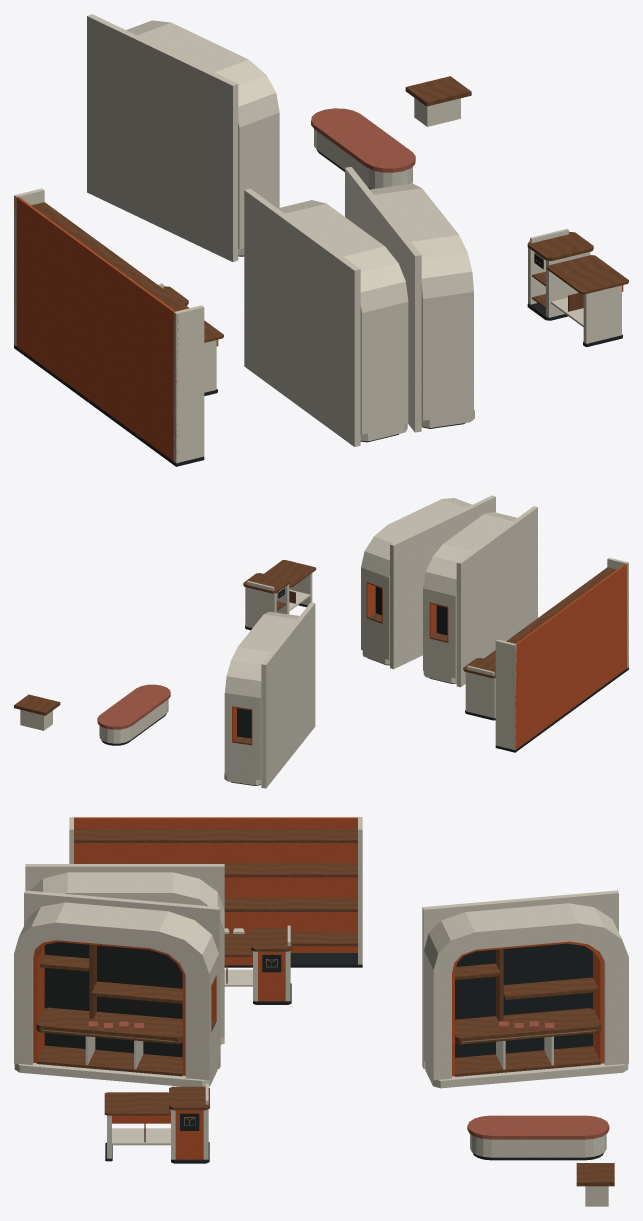
The model's file is SHOP_D09_P100_F392__fitout.glb.
The picture shows the model from 3 angles, top to bottom: view 1: azimuth 30°, elevation 25°; view 2: azimuth 150°, elevation 25°; view 3: azimuth 270°, elevation 25°; orthographic projection. The views are drawn at different scales.
Parts seen in each view (by area): view 1: SHOP_D09_P100_F392__fitout__ivory_enamel, SHOP_D09_P100_F392__fitout__retail_terracotta_enamel, SHOP_D09_P100_F392__fitout__warm_walnut, SHOP_D09_P100_F392__fitout__clay_weave, SHOP_D09_P100_F392__fitout__dark_rubber; view 2: SHOP_D09_P100_F392__fitout__ivory_enamel, SHOP_D09_P100_F392__fitout__retail_terracotta_enamel, SHOP_D09_P100_F392__fitout__warm_walnut, SHOP_D09_P100_F392__fitout__clay_weave, SHOP_D09_P100_F392__fitout__dark_rubber; view 3: SHOP_D09_P100_F392__fitout__ivory_enamel, SHOP_D09_P100_F392__fitout__warm_walnut, SHOP_D09_P100_F392__fitout__retail_terracotta_enamel, SHOP_D09_P100_F392__fitout__dark_rubber, SHOP_D09_P100_F392__fitout__clay_weave, SHOP_D09_P100_F392__fitout__champagne_metal.
Part boxes in pixels (x1=…): SHOP_D09_P100_F392__fitout__ivory_enamel: x1=14, y1=14, x2=621, y2=463; SHOP_D09_P100_F392__fitout__retail_terracotta_enamel: x1=14, y1=196, x2=623, y2=462; SHOP_D09_P100_F392__fitout__warm_walnut: x1=31, y1=76, x2=628, y2=342; SHOP_D09_P100_F392__fitout__clay_weave: x1=311, y1=108, x2=415, y2=172; SHOP_D09_P100_F392__fitout__dark_rubber: x1=14, y1=150, x2=622, y2=466; SHOP_D09_P100_F392__fitout__ivory_enamel: x1=20, y1=495, x2=628, y2=788; SHOP_D09_P100_F392__fitout__retail_terracotta_enamel: x1=232, y1=562, x2=627, y2=749; SHOP_D09_P100_F392__fitout__warm_walnut: x1=14, y1=560, x2=616, y2=745; SHOP_D09_P100_F392__fitout__clay_weave: x1=97, y1=684, x2=170, y2=729; SHOP_D09_P100_F392__fitout__dark_rubber: x1=101, y1=586, x2=628, y2=785; SHOP_D09_P100_F392__fitout__ivory_enamel: x1=14, y1=817, x2=628, y2=1206; SHOP_D09_P100_F392__fitout__warm_walnut: x1=36, y1=828, x2=614, y2=1186; SHOP_D09_P100_F392__fitout__retail_terracotta_enamel: x1=33, y1=817, x2=604, y2=1159; SHOP_D09_P100_F392__fitout__dark_rubber: x1=44, y1=942, x2=603, y2=1163; SHOP_D09_P100_F392__fitout__clay_weave: x1=88, y1=1021, x2=609, y2=1139; SHOP_D09_P100_F392__fitout__champagne_metal: x1=41, y1=959, x2=596, y2=1125.
Bounding box in the file's own units: 10.25 × 3 × 10.49.
6 materials, 6 textured.
